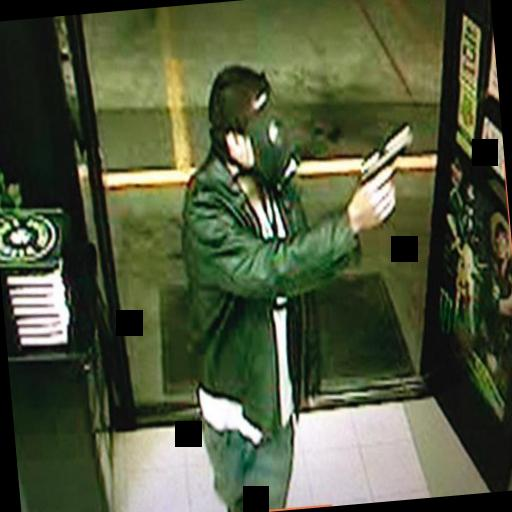Handgun: (348, 110, 416, 204)
